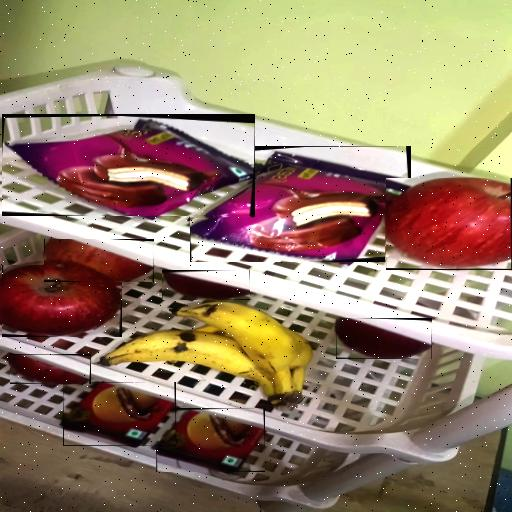Apple: (386, 178, 512, 270), (2, 265, 122, 337), (44, 240, 154, 284), (336, 318, 432, 359), (162, 270, 250, 300), (10, 354, 91, 384)
Choco Fills: (63, 382, 176, 446), (156, 408, 265, 472)
Choco Pie: (2, 114, 255, 216), (190, 146, 411, 262)
